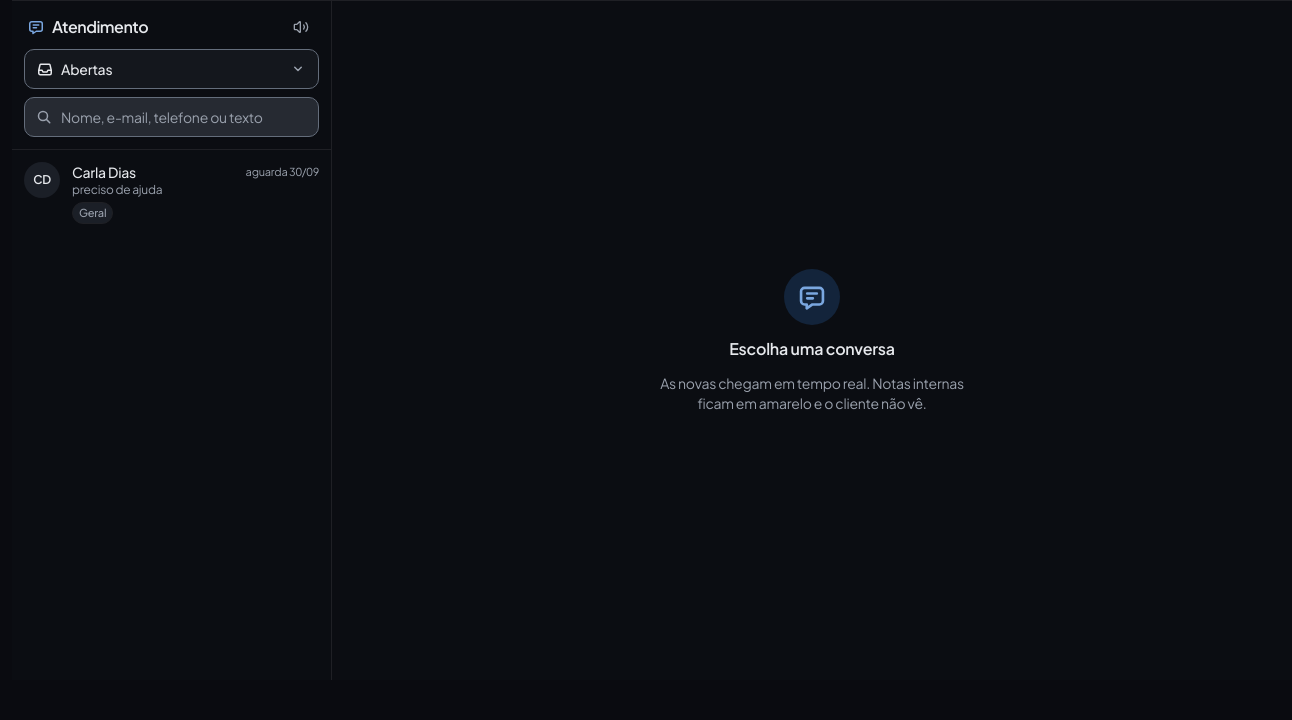
Test case: chat: painel do cliente no Atendimento (Decisão 163) › RPC com erro ou vazia mostra o aviso, não um histórico vazio
What coordinates should you click on to do the following:
click the button "CD Carla Dias aguarda 30/09 preciso de ajuda Geral"
I would click on:
 (42, 180)
Its box is [12,150,331,236].
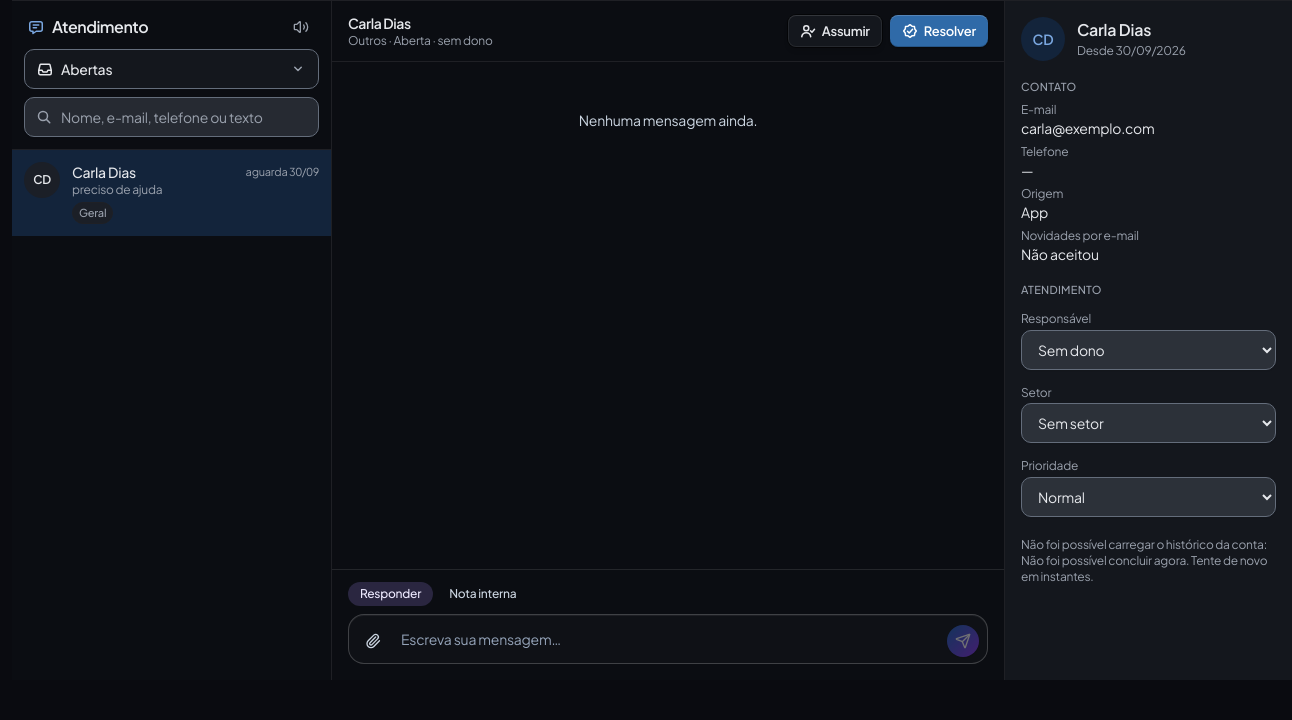
Check: the message shows "Não foi possível carregar o histórico da conta", box [1021,537,1267,552]
